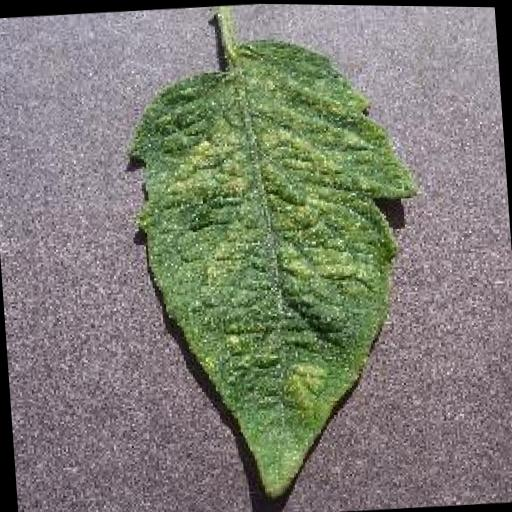Spider Mites: (120, 27, 436, 508)
